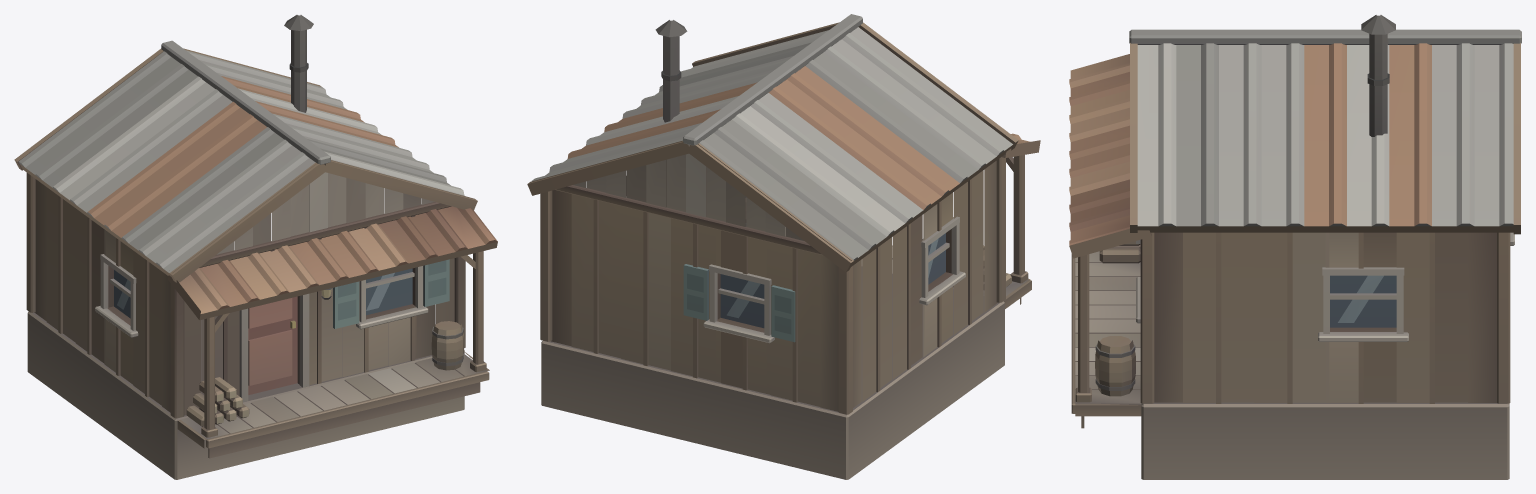
Rendered from house_11.glb.
3 renders of one model, left to right at view 1: azimuth 30°, elevation 25°; view 2: azimuth 150°, elevation 25°; view 3: azimuth 270°, elevation 25°, orthographic. The views are drawn at different scales.
Bounding box in the file's own units: 5.75 × 6.15 × 5.97.
